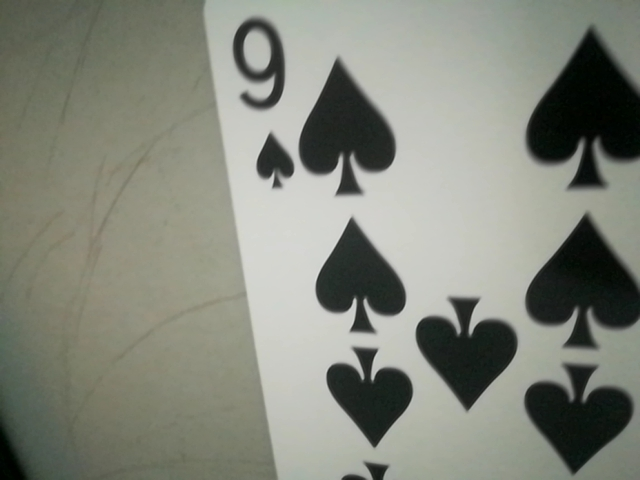ht 9: (216, 10, 307, 203)
